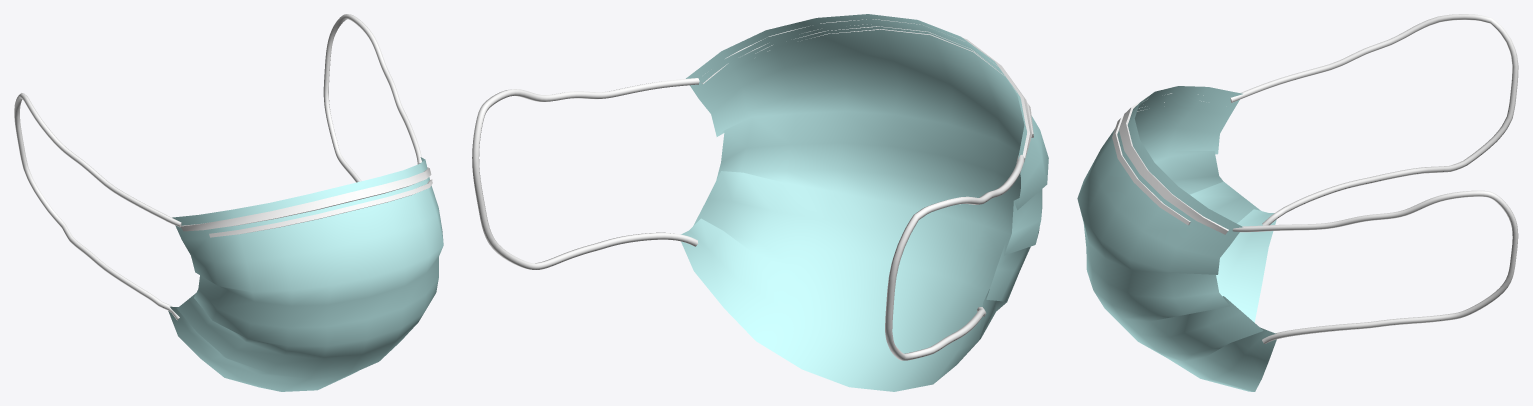
File: covidmaskglb.glb
The picture shows the model from 3 angles, left to right: view 1: azimuth 30°, elevation 25°; view 2: azimuth 150°, elevation 25°; view 3: azimuth 270°, elevation 25°; orthographic projection. The views are drawn at different scales.
Parts seen in each view (by area): view 1: pPlane2_lambert1_0, rope1_lambert2_0, polySurface4_lambert2_0, rope2_lambert2_0, polySurface2_lambert2_0; view 2: pPlane2_lambert1_0, rope2_lambert2_0, rope1_lambert2_0, polySurface4_lambert2_0, polySurface2_lambert2_0; view 3: pPlane2_lambert1_0, rope1_lambert2_0, rope2_lambert2_0, polySurface4_lambert2_0, polySurface2_lambert2_0.
Boxes of the visible parts, box(x1,y1,x2,y2) form: pPlane2_lambert1_0: box(168, 157, 443, 391); rope1_lambert2_0: box(14, 93, 181, 320); polySurface4_lambert2_0: box(180, 167, 431, 231); rope2_lambert2_0: box(323, 14, 421, 182); polySurface2_lambert2_0: box(209, 179, 432, 237); pPlane2_lambert1_0: box(681, 14, 1048, 391); rope2_lambert2_0: box(472, 78, 699, 269); rope1_lambert2_0: box(885, 155, 1024, 360); polySurface4_lambert2_0: box(701, 19, 1032, 161); polySurface2_lambert2_0: box(755, 26, 1033, 137); pPlane2_lambert1_0: box(1077, 86, 1276, 391); rope1_lambert2_0: box(1230, 14, 1518, 225); rope2_lambert2_0: box(1232, 190, 1518, 343); polySurface4_lambert2_0: box(1119, 93, 1228, 234); polySurface2_lambert2_0: box(1112, 102, 1190, 225).
Size of the model in its own units: 0.1711 by 0.1215 by 0.1755.
